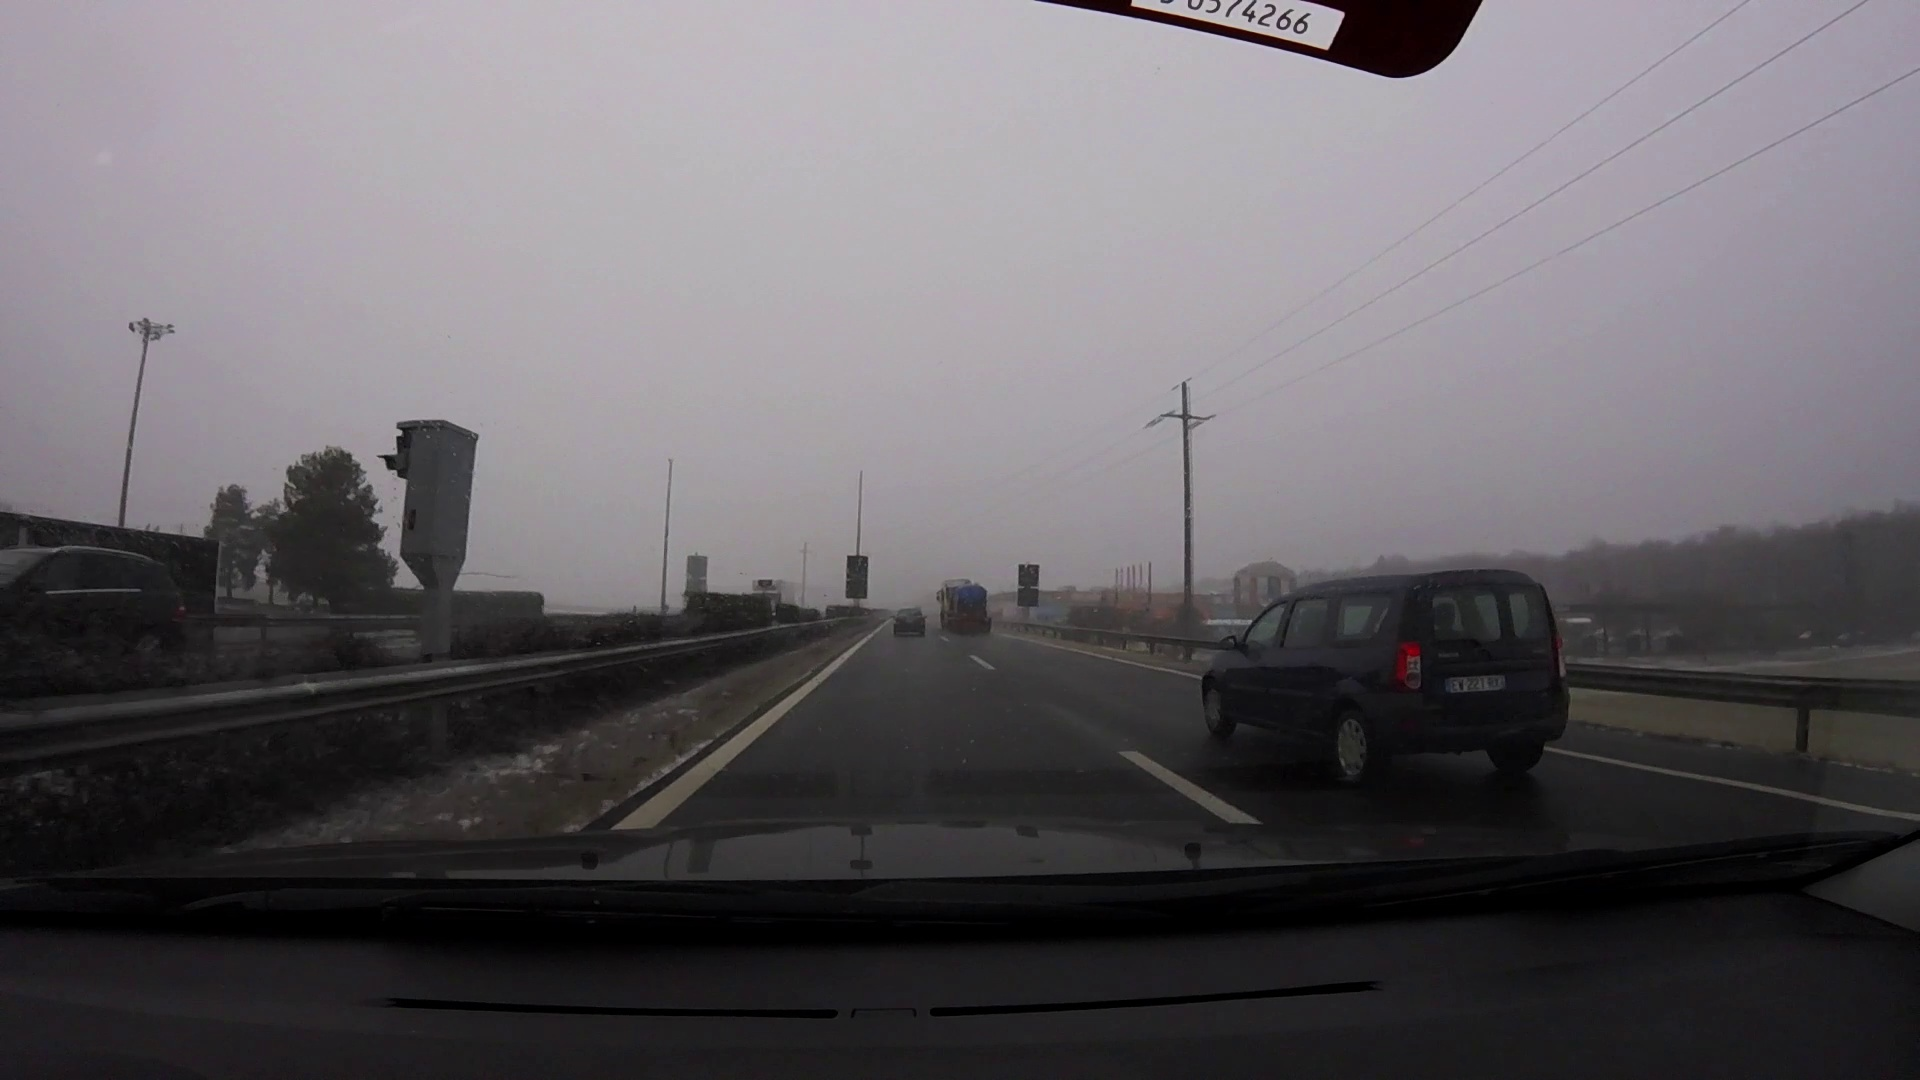radar: (377, 418, 484, 607)
